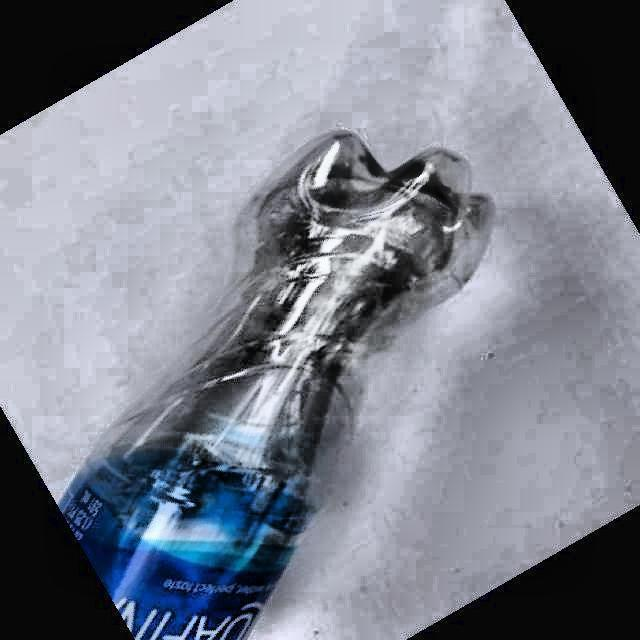plastic: (60, 132, 491, 640)
